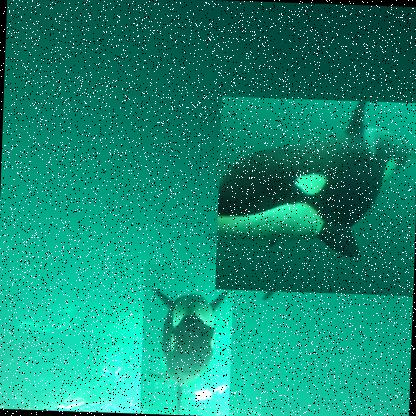killer_whale: (215, 95, 415, 298), (139, 263, 237, 415)
